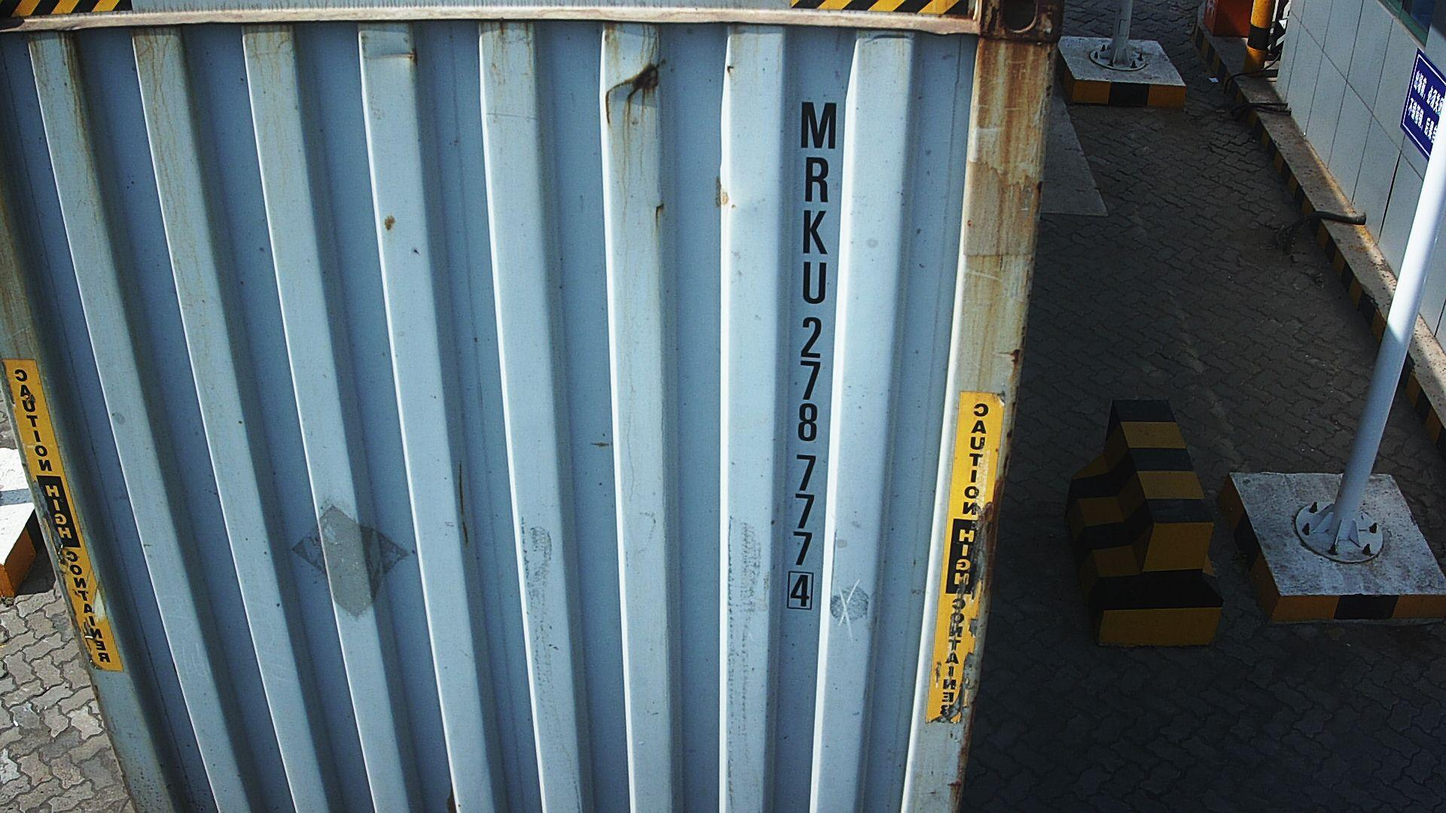container-numbers: (778, 97, 844, 616)
